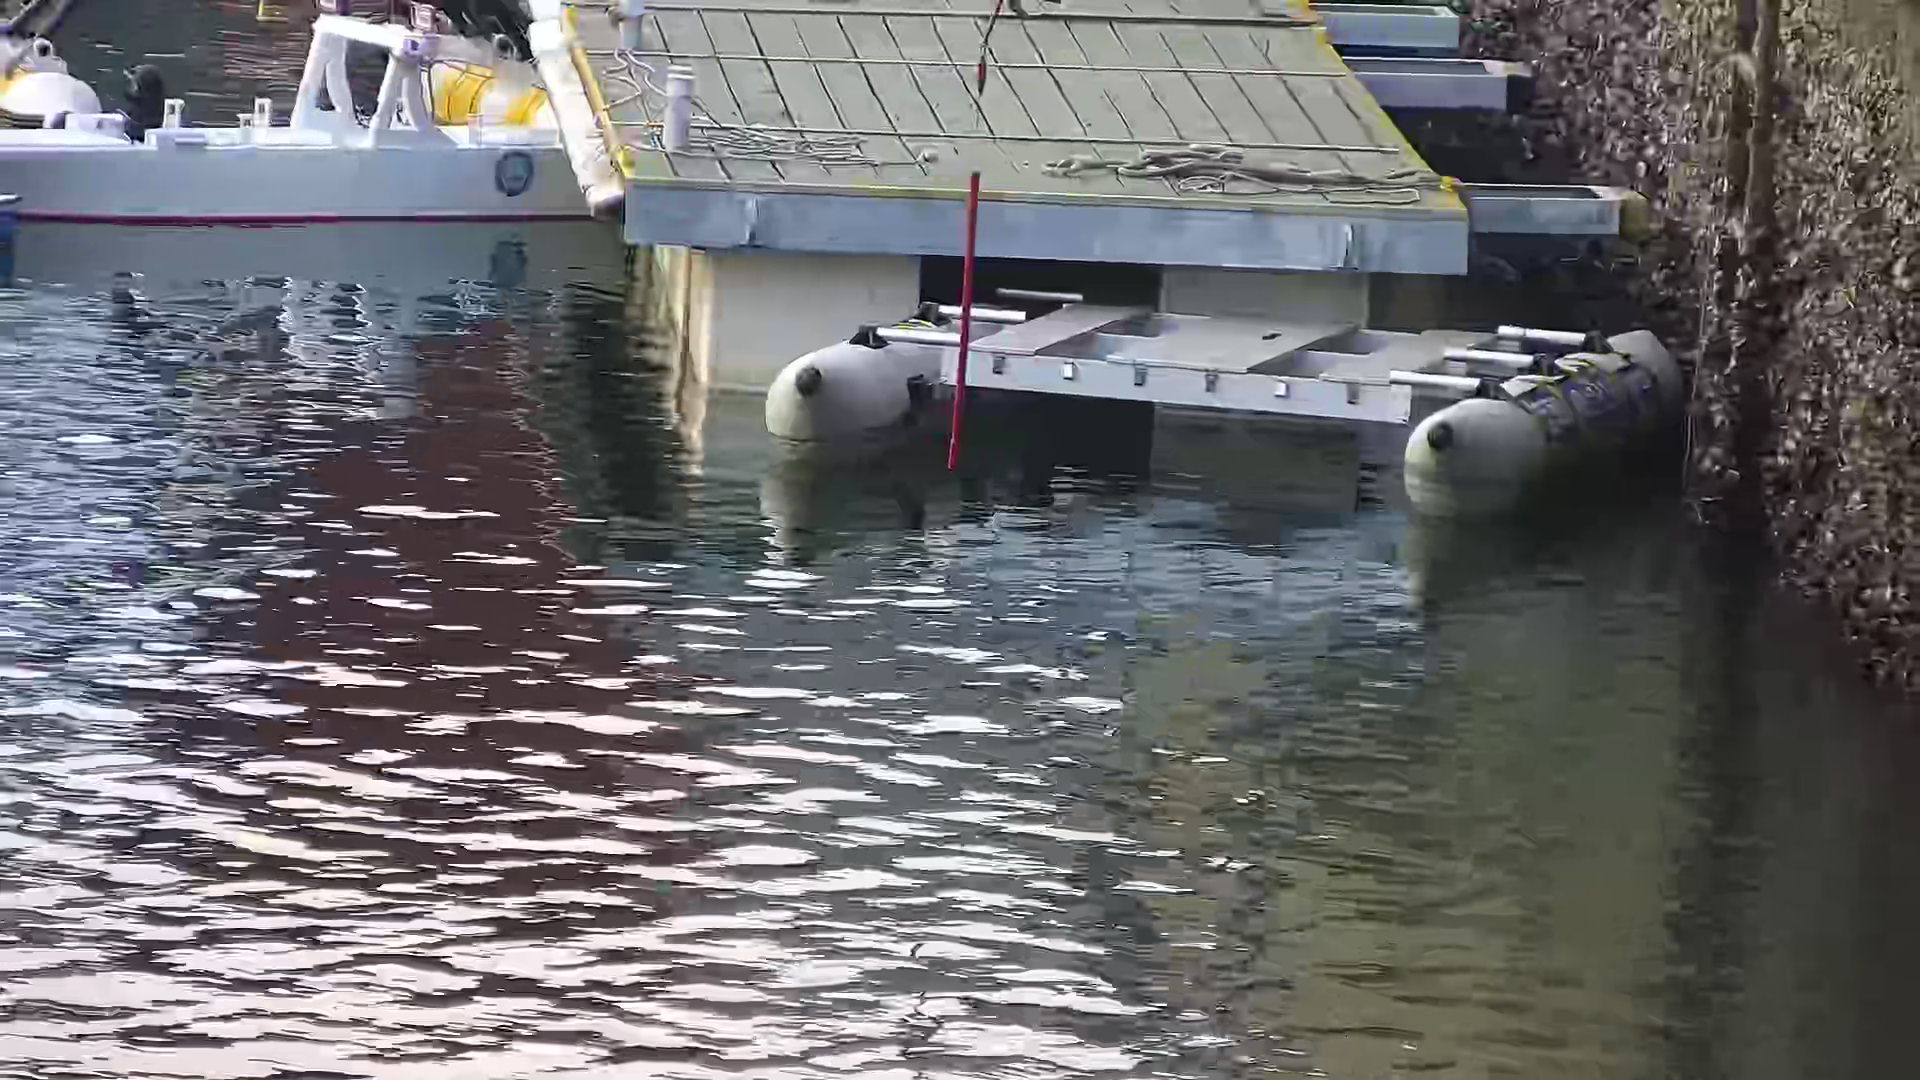boat: (767, 289, 1688, 535), (1, 22, 605, 229)
harbor: (541, 1, 1601, 368)
